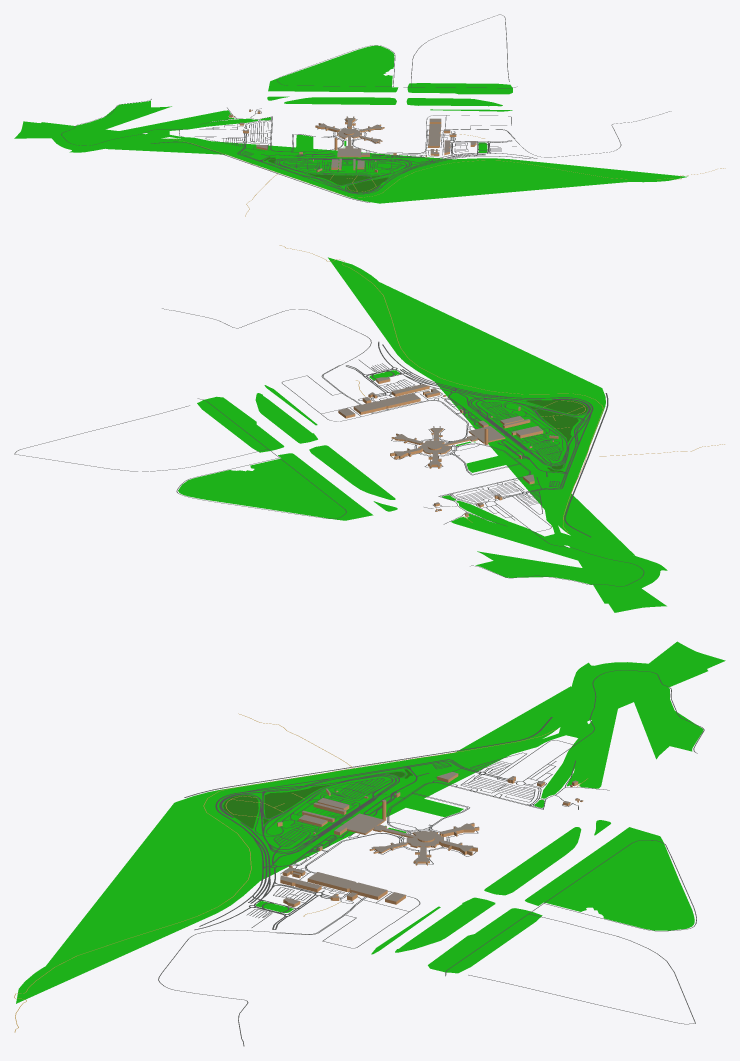
The model's file is environment_001.fbx.
3 renders of one model, top to bottom at view 1: azimuth 30°, elevation 25°; view 2: azimuth 150°, elevation 25°; view 3: azimuth 270°, elevation 25°, orthographic. The views are drawn at different scales.
Visible parts, largest first — view 1: map_5.osm_vegetation, map_5.osm_roads_service, map_5.osm_buildings, map_5.osm_roads_unclassified, map_5.osm_forest, map_5.osm_roads_secondary, map_5.osm_roads_tertiary, map_5.osm_roads_track; view 2: map_5.osm_vegetation, map_5.osm_roads_service, map_5.osm_buildings, map_5.osm_roads_unclassified, map_5.osm_forest, map_5.osm_roads_secondary, map_5.osm_roads_track, map_5.osm_roads_tertiary; view 3: map_5.osm_vegetation, map_5.osm_roads_service, map_5.osm_buildings, map_5.osm_roads_unclassified, map_5.osm_forest, map_5.osm_roads_secondary, map_5.osm_roads_track, map_5.osm_roads_tertiary.
Part boxes in pixels (left/top/right/bottom): map_5.osm_vegetation: left=14, top=45, right=687, bottom=203; map_5.osm_roads_service: left=61, top=14, right=671, bottom=182; map_5.osm_buildings: left=229, top=109, right=476, bottom=172; map_5.osm_roads_unclassified: left=237, top=133, right=537, bottom=191; map_5.osm_forest: left=264, top=157, right=388, bottom=192; map_5.osm_roads_secondary: left=151, top=141, right=485, bottom=202; map_5.osm_roads_tertiary: left=277, top=158, right=409, bottom=192; map_5.osm_roads_track: left=166, top=134, right=725, bottom=216; map_5.osm_vegetation: left=178, top=257, right=667, bottom=612; map_5.osm_roads_service: left=14, top=308, right=644, bottom=586; map_5.osm_buildings: left=338, top=377, right=558, bottom=517; map_5.osm_roads_unclassified: left=346, top=341, right=591, bottom=499; map_5.osm_forest: left=526, top=400, right=587, bottom=471; map_5.osm_roads_secondary: left=400, top=369, right=608, bottom=537; map_5.osm_roads_track: left=279, top=245, right=724, bottom=533; map_5.osm_roads_tertiary: left=470, top=398, right=589, bottom=464; map_5.osm_vegetation: left=16, top=641, right=725, bottom=1003; map_5.osm_roads_service: left=158, top=670, right=704, bottom=1046; map_5.osm_buildings: left=277, top=772, right=583, bottom=907; map_5.osm_roads_unclassified: left=194, top=759, right=507, bottom=930; map_5.osm_forest: left=223, top=769, right=412, bottom=828; map_5.osm_roads_secondary: left=184, top=717, right=552, bottom=903; map_5.osm_roads_track: left=14, top=713, right=587, bottom=1032; map_5.osm_roads_tertiary: left=220, top=774, right=396, bottom=852.
Size of the model in its own units: 458309 by 10200 by 340430.
